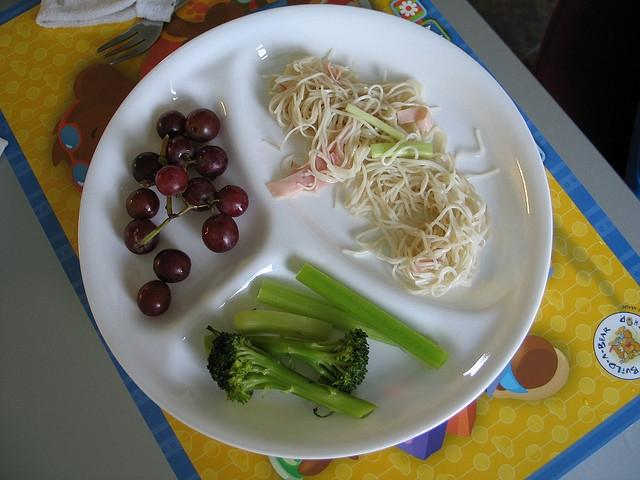broccoli: (210, 336, 380, 420), (246, 328, 370, 394)
celery: (296, 262, 450, 370), (257, 278, 438, 347), (234, 309, 332, 341)
grape: (124, 218, 171, 254), (202, 214, 239, 253), (154, 248, 192, 283), (136, 280, 171, 316), (182, 176, 216, 212), (186, 108, 220, 144), (215, 185, 249, 217), (126, 188, 160, 220), (194, 146, 228, 178), (155, 165, 189, 197), (130, 152, 163, 184), (168, 136, 198, 169), (156, 110, 186, 141)
